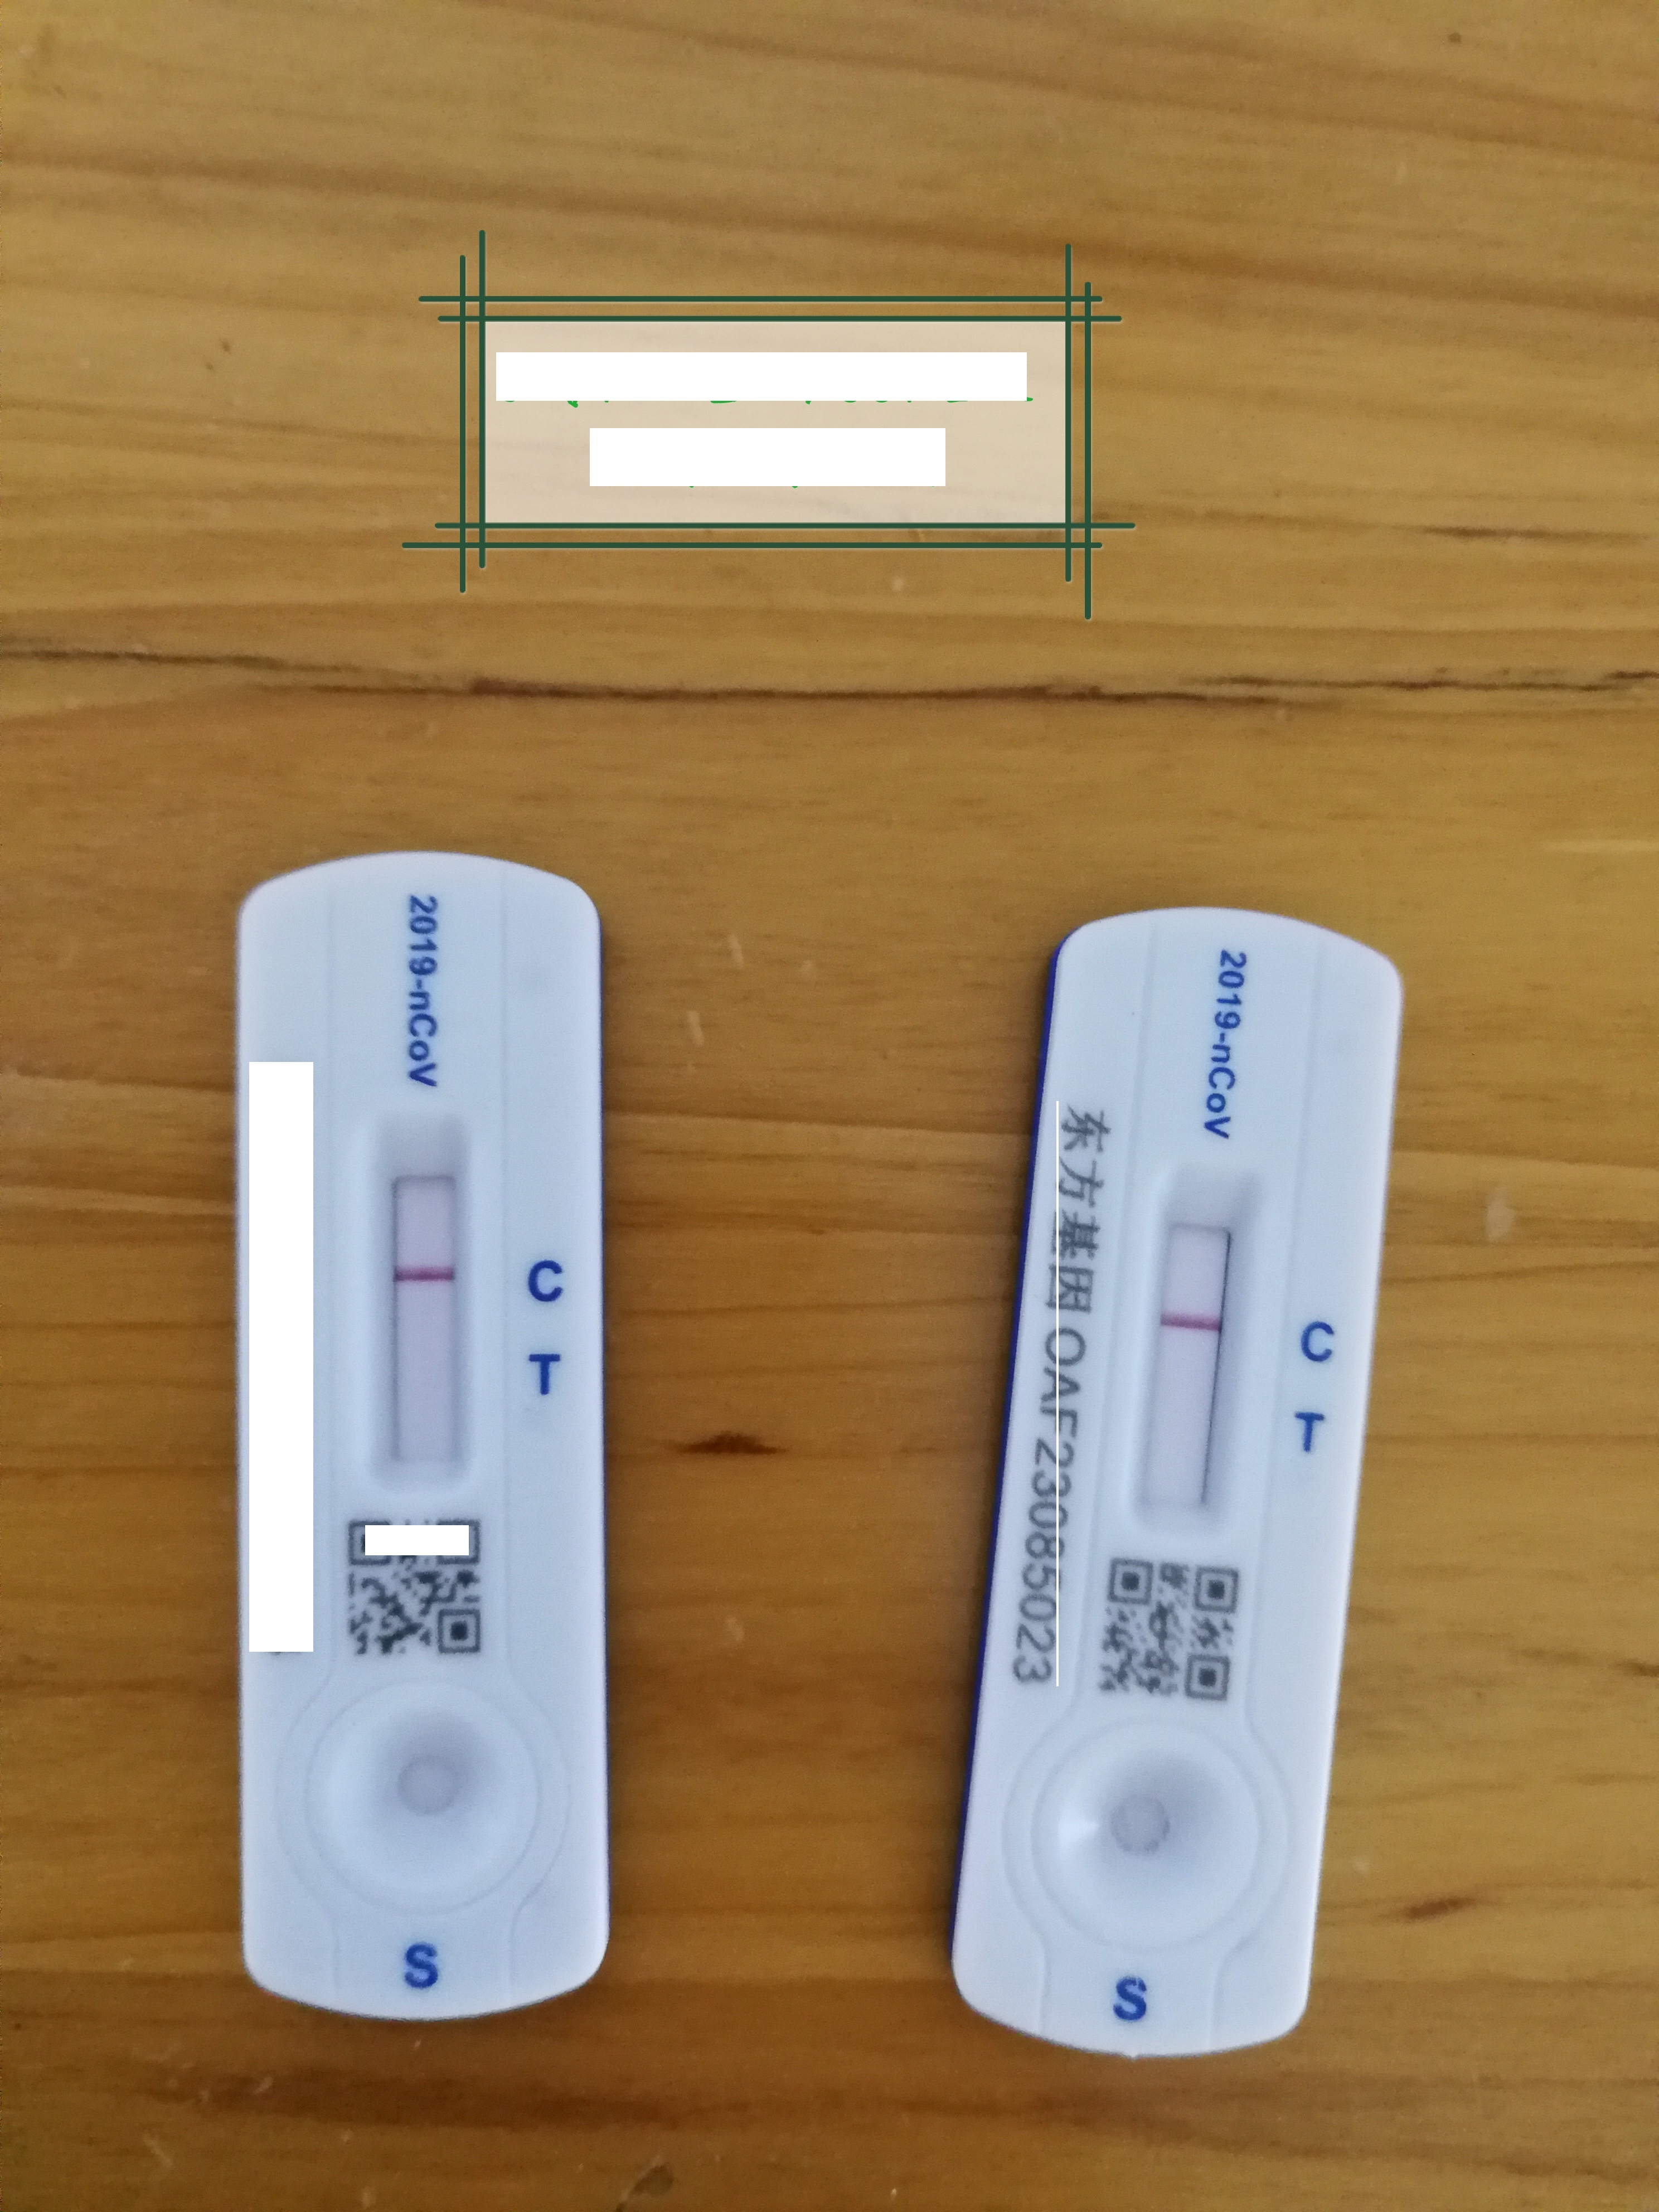negative: (1127, 1163, 1256, 1541), (373, 1122, 477, 1500)
